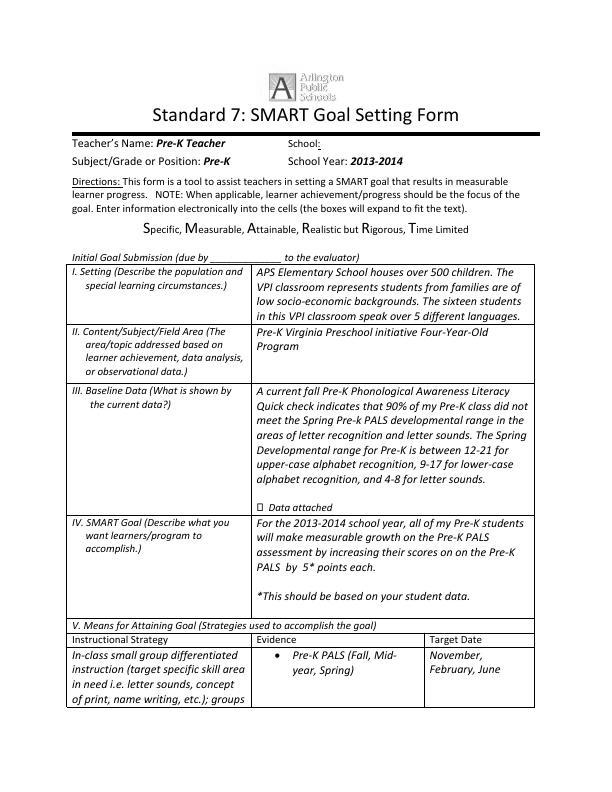input: (210, 251, 283, 264)
table: (63, 261, 540, 712)
text: (71, 135, 538, 241), (149, 105, 461, 124), (70, 245, 208, 262), (285, 244, 363, 262)
